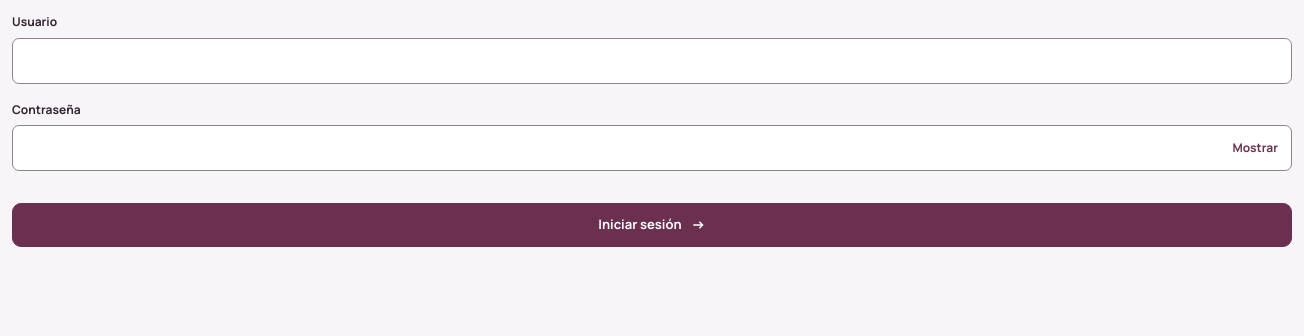
it: FormularioIngreso › bloquea el botón mientras envía, ignora otro envío y lo recupera tras un error
Type "lucia.vega" into the field labelled "Usuario".
click(652, 60); type("lucia.vega")  # box [12,38,1292,84]
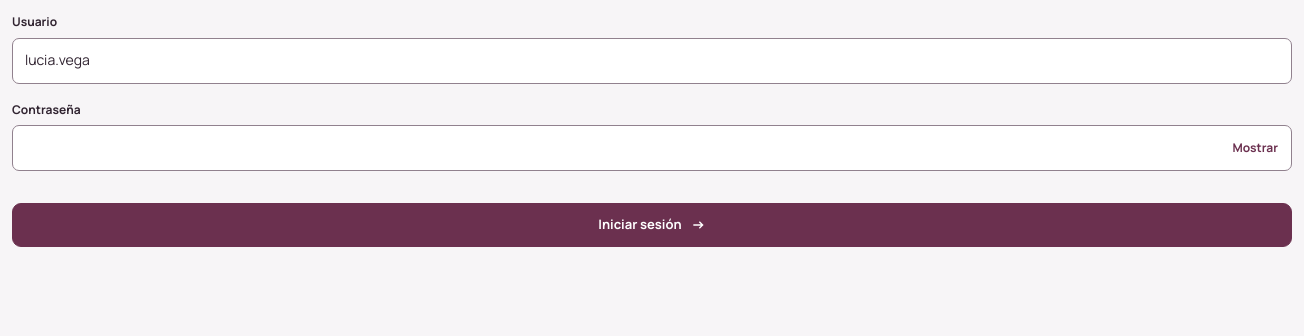
Type "Secreta-2026" into the password field labelled "Contraseña".
click(652, 148); type("Secreta-2026")  # box [12,125,1292,171]
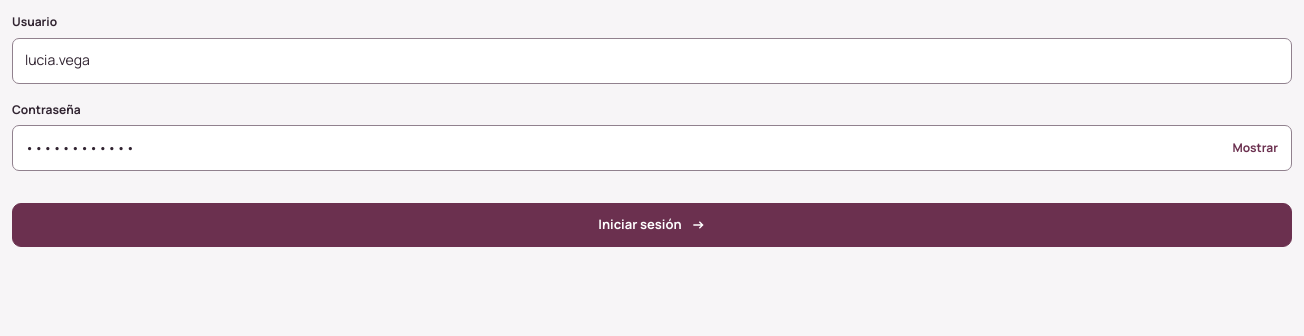
Submit the form
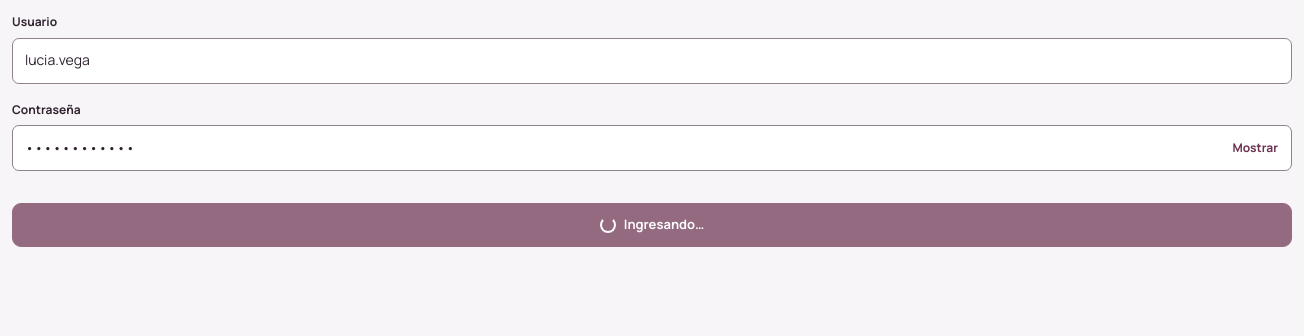
Check: the submit button is disabled, box [12,203,1292,247]
Check: the submit button reads "Ingresando…", box [12,203,1292,247]
Submit the form
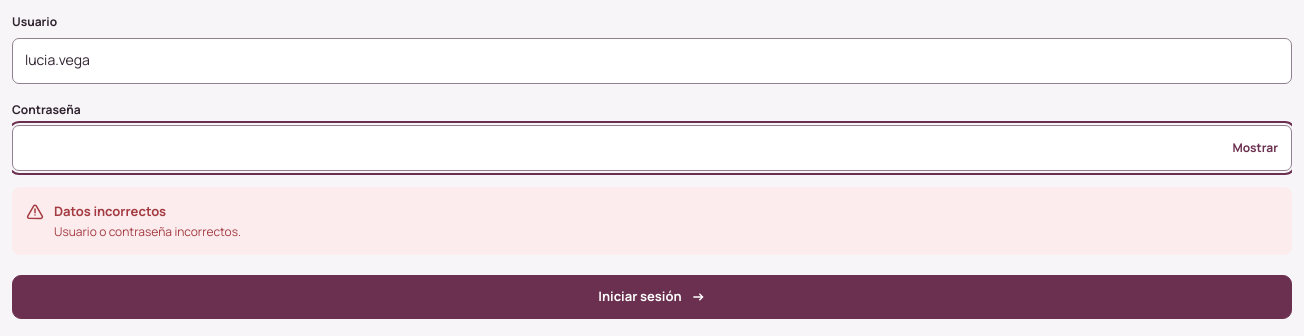
Check: the submit button is enabled, box [12,275,1292,319]
Check: the submit button reads "Iniciar sesión", box [12,275,1292,319]
Check: the message "Datos incorrectos Usuario o contraseña incorrectos." is shown, box [12,187,1292,255]
